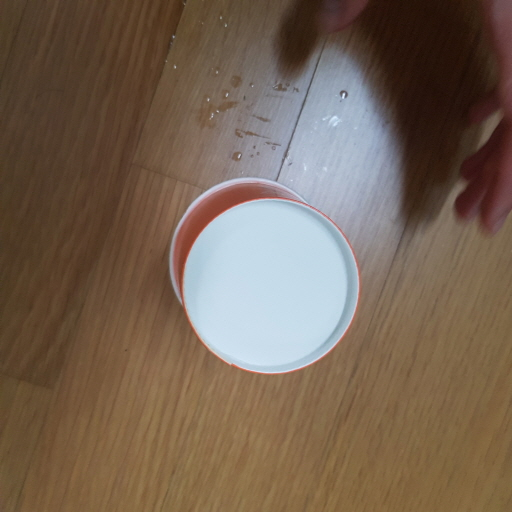Paper_1: (165, 179, 366, 376)
